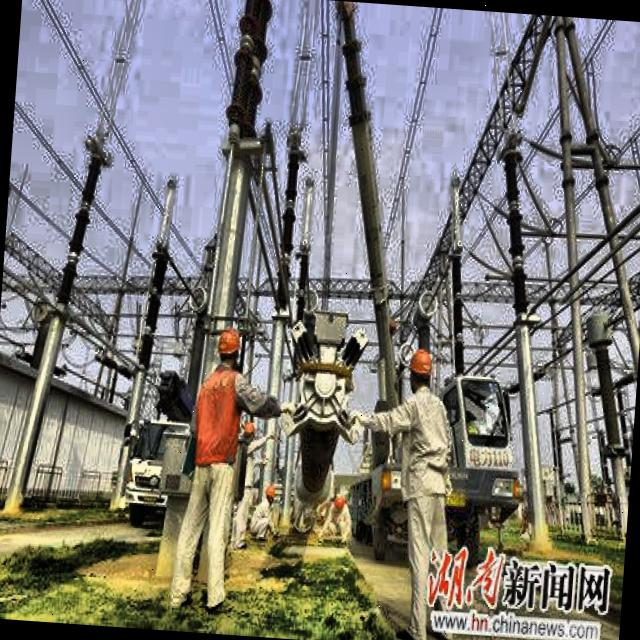helmet: (210, 325, 248, 379), (404, 342, 436, 398), (264, 481, 276, 507)
